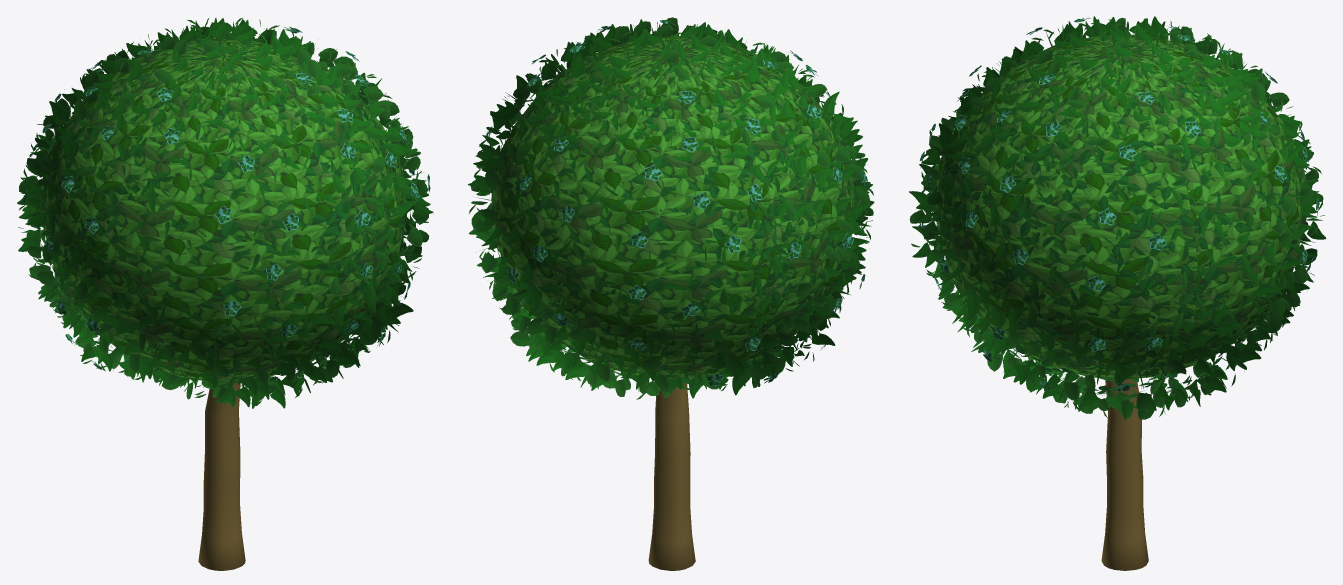
Rendered from apple_tree2_LP2.fbx.
3 renders of one model, left to right at view 1: azimuth 30°, elevation 25°; view 2: azimuth 150°, elevation 25°; view 3: azimuth 270°, elevation 25°, orthographic.
Parts seen in each view (by area): view 1: pasted__pSphere1, pasted__leaves1, pasted__pCube1, pasted__pasted__pasted__pasted__pPlane10; view 2: pasted__pSphere1, pasted__leaves1, pasted__pCube1, pasted__pasted__pasted__pasted__pPlane10; view 3: pasted__pSphere1, pasted__leaves1, pasted__pCube1, pasted__pasted__pasted__pasted__pPlane10.
Part boxes in pixels (left/top/right/bottom): pasted__pSphere1: left=41, top=38, right=406, bottom=382; pasted__leaves1: left=17, top=18, right=433, bottom=408; pasted__pCube1: left=198, top=382, right=245, bottom=570; pasted__pasted__pasted__pasted__pPlane10: left=23, top=26, right=430, bottom=369; pasted__pSphere1: left=491, top=36, right=856, bottom=379; pasted__leaves1: left=468, top=17, right=874, bottom=399; pasted__pCube1: left=648, top=382, right=695, bottom=570; pasted__pasted__pasted__pasted__pPlane10: left=487, top=20, right=867, bottom=385; pasted__pSphere1: left=935, top=34, right=1306, bottom=379; pasted__leaves1: left=909, top=16, right=1326, bottom=420; pasted__pCube1: left=1101, top=379, right=1148, bottom=570; pasted__pasted__pasted__pasted__pPlane10: left=918, top=17, right=1319, bottom=391.
Size of the model in its own units: 2.39 by 3.24 by 2.37.
